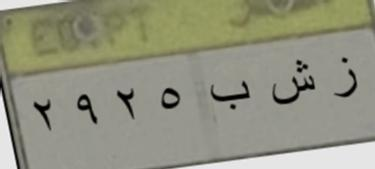2: (30, 93, 62, 134), (114, 84, 142, 126)
5: (154, 81, 186, 117)
9: (71, 90, 100, 136)
baa: (205, 76, 250, 119)
sheen: (267, 54, 316, 112)
zay: (324, 52, 363, 104)
